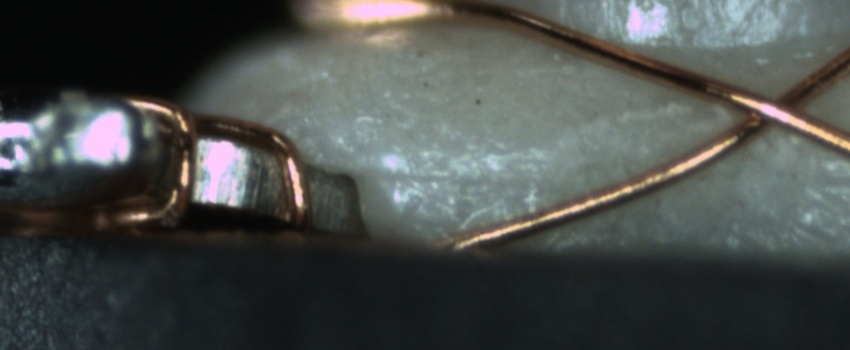CL: (719, 75, 826, 144)
DL: (383, 147, 552, 211)
TE: (83, 92, 318, 241)
